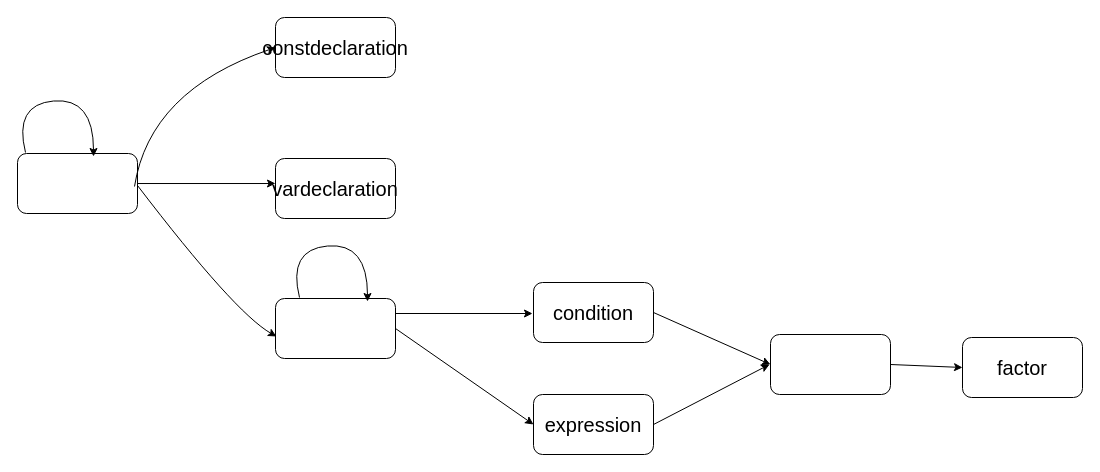
Some shapes in this 1100 by 472 pixel diagram are drawn without their labels. Here are the shapes that lost their labels. From the top down, the box of each, then its label:
(16, 152, 138, 214): block
(274, 298, 396, 358): statement
(770, 334, 890, 394): term
